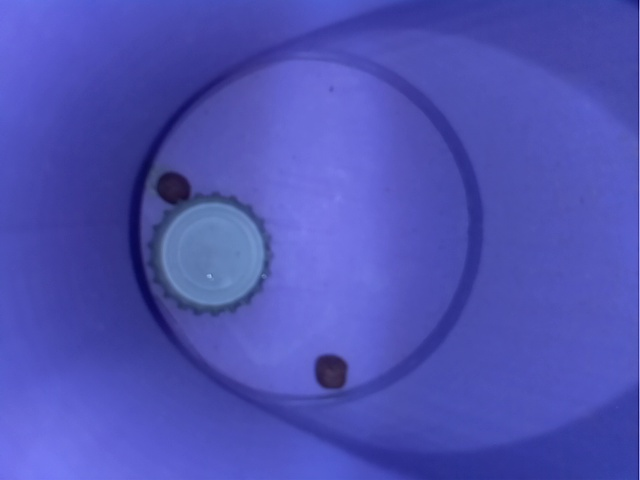capsule: (146, 189, 277, 325)
croquette: (300, 345, 360, 406), (150, 165, 196, 209)
